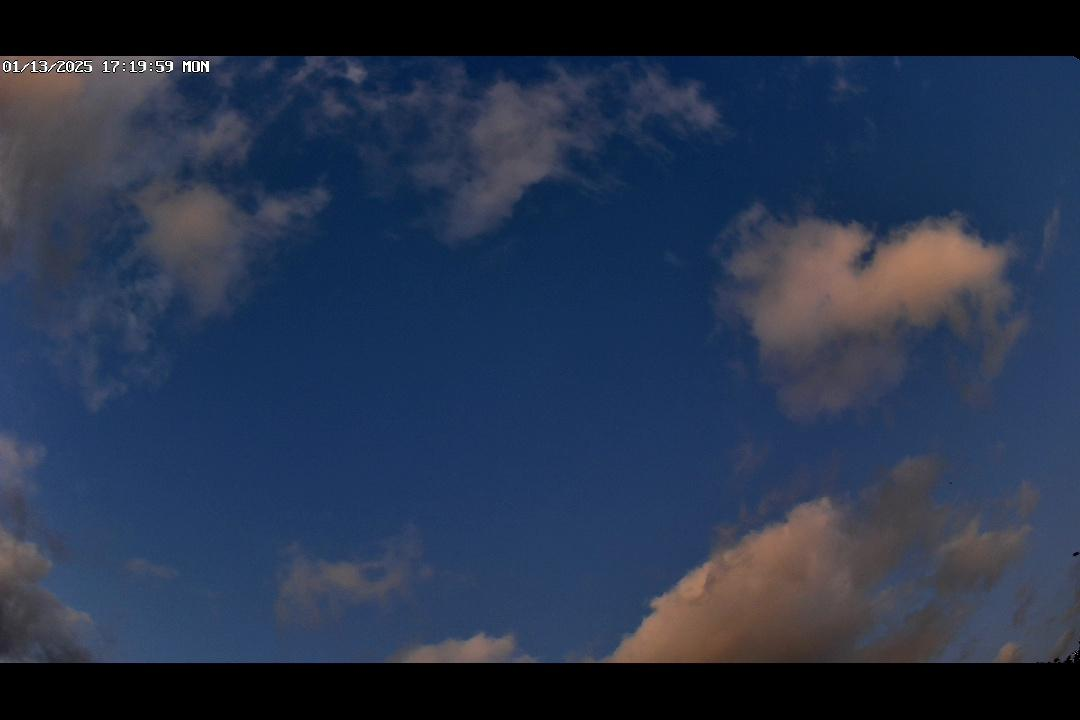WildLife: (1065, 544, 1080, 564)
